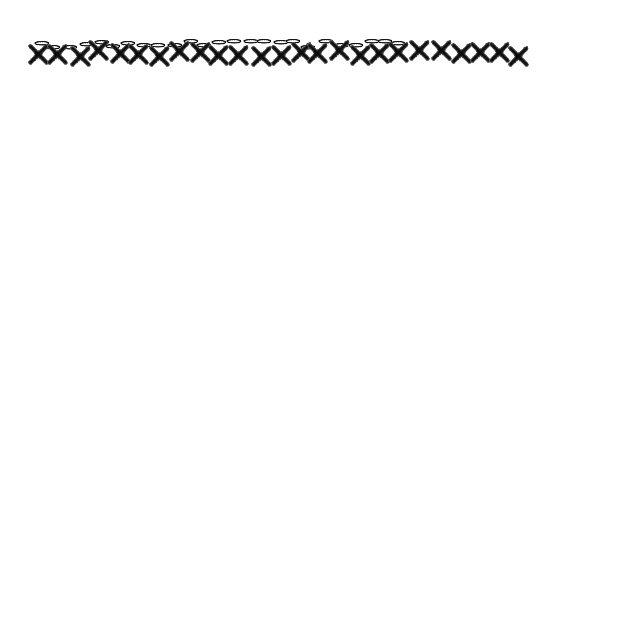chain: (33, 40, 51, 48), (44, 44, 62, 52), (61, 44, 79, 52), (119, 40, 137, 48), (135, 42, 153, 50), (149, 42, 167, 50), (166, 42, 184, 50), (182, 38, 200, 46), (195, 42, 213, 50), (225, 38, 243, 46), (242, 38, 260, 46), (255, 38, 273, 46), (284, 38, 302, 46), (299, 44, 317, 52), (317, 38, 335, 46), (333, 42, 351, 50), (347, 42, 365, 50), (363, 38, 381, 46), (376, 38, 394, 46), (389, 40, 407, 48), (78, 42, 96, 48), (93, 40, 111, 46), (104, 44, 122, 50), (210, 40, 228, 46), (272, 40, 290, 46)
double: (26, 40, 52, 68), (68, 42, 94, 70), (86, 36, 112, 64), (126, 40, 152, 68), (188, 38, 214, 66), (386, 38, 412, 66), (468, 38, 494, 66), (506, 42, 532, 70), (108, 40, 134, 66), (206, 42, 232, 68), (226, 42, 252, 68), (348, 42, 374, 68), (46, 40, 70, 68), (148, 42, 172, 70), (250, 42, 274, 70), (290, 38, 314, 66), (328, 36, 352, 64), (408, 36, 432, 64), (430, 36, 454, 64), (488, 38, 512, 66), (168, 38, 192, 64), (270, 42, 294, 68), (306, 40, 330, 66), (368, 40, 392, 66), (450, 40, 474, 66)
